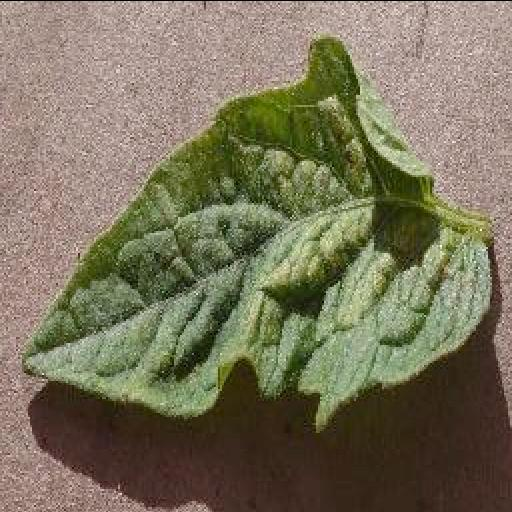disease_tomato: (12, 34, 498, 428)
